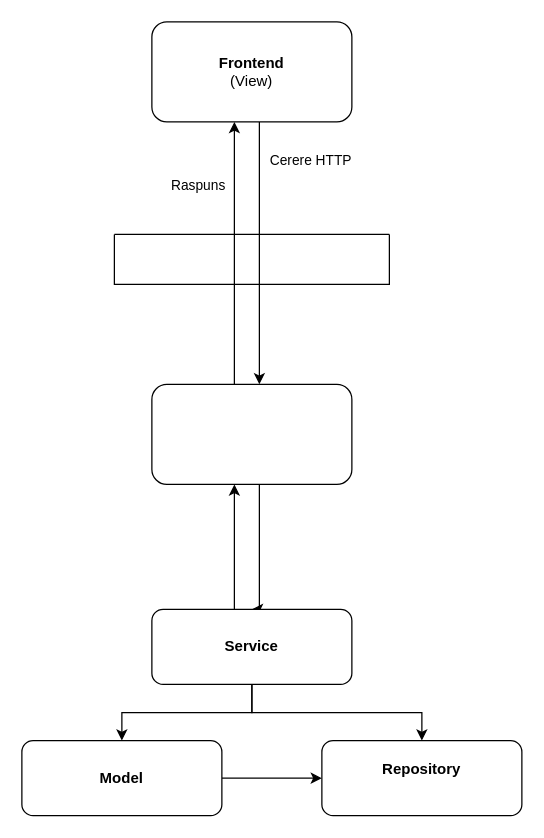
Image size: 544x838. Some labels were removed from this diagram. The centre of each missing label's shape, as x and y in pixels:
"Controller" belongs at (251,433).
"Filtre securitate" belongs at (251,258).
